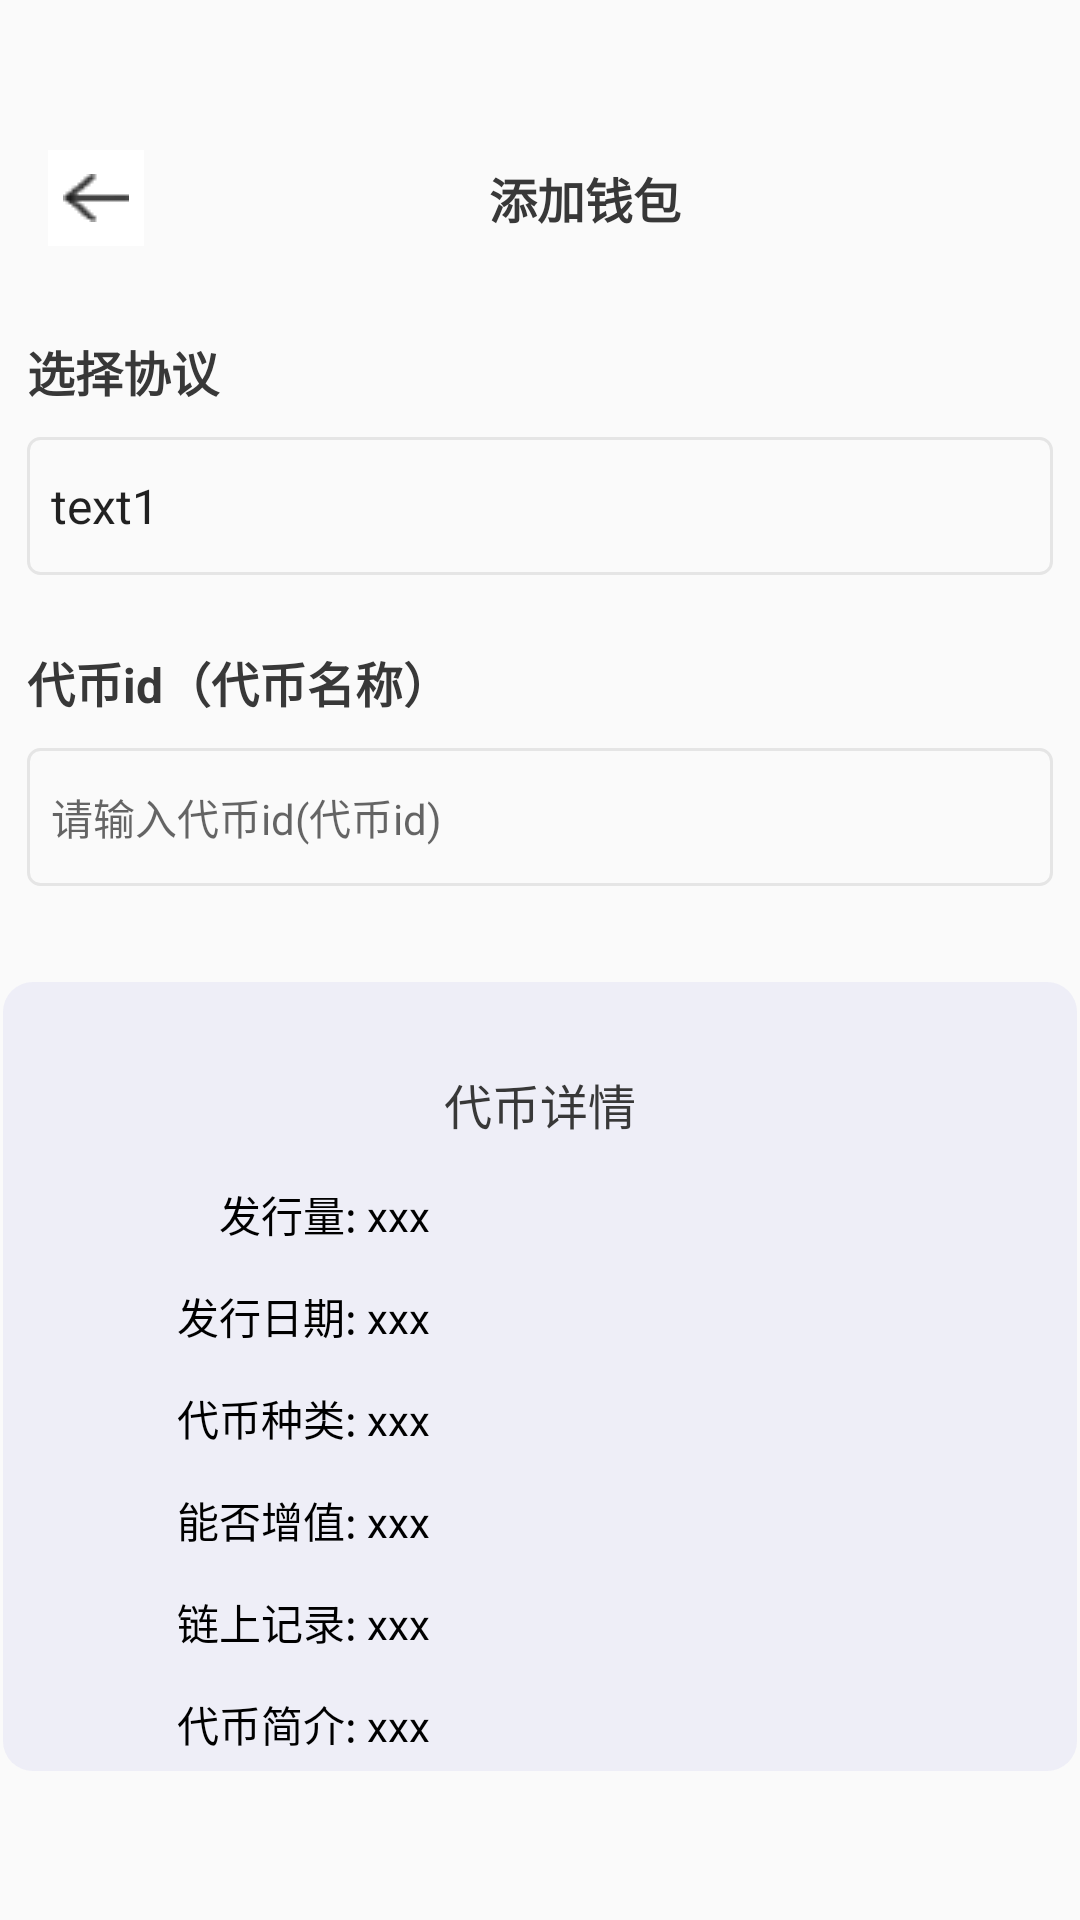

Screen size 1080*1920. Icon name, then its center in pixels as (x,y):
exit: (96,198)
